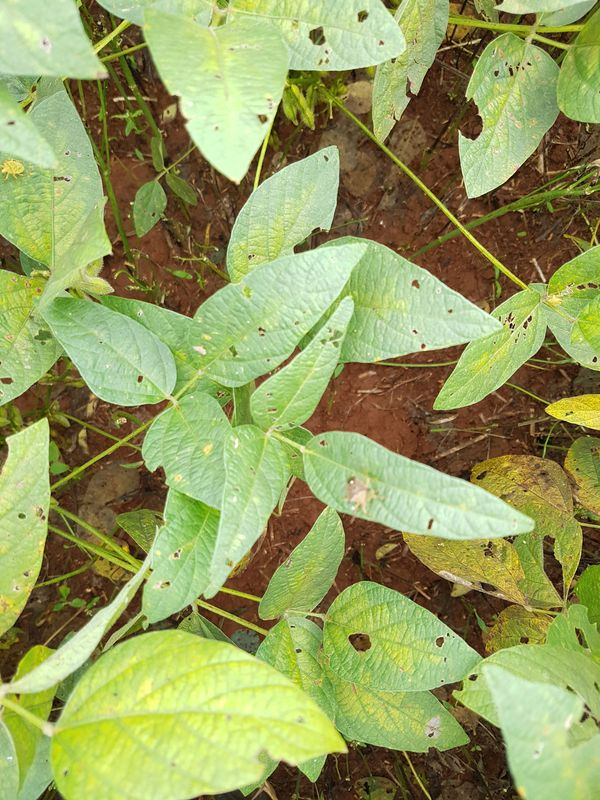Euschistus_heros_adulto: (337, 470, 385, 523)
Euschistus_heros_ninfa: (1, 151, 30, 185)
